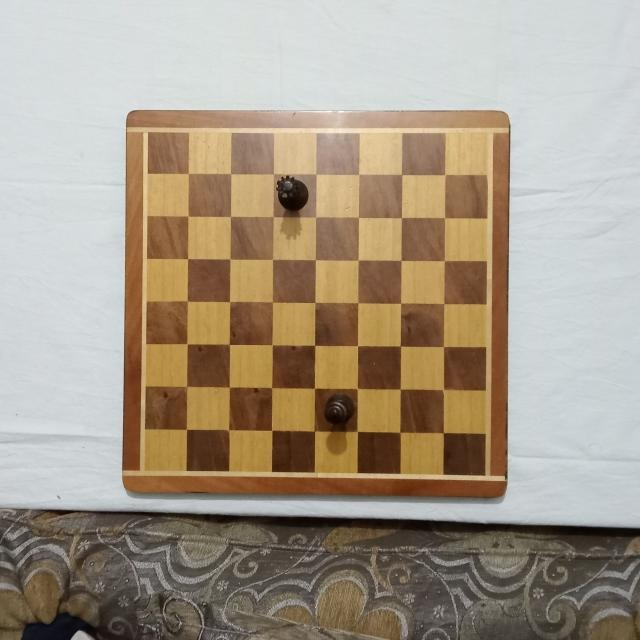black-king: (324, 393, 356, 426)
black-queen: (275, 174, 310, 214)
